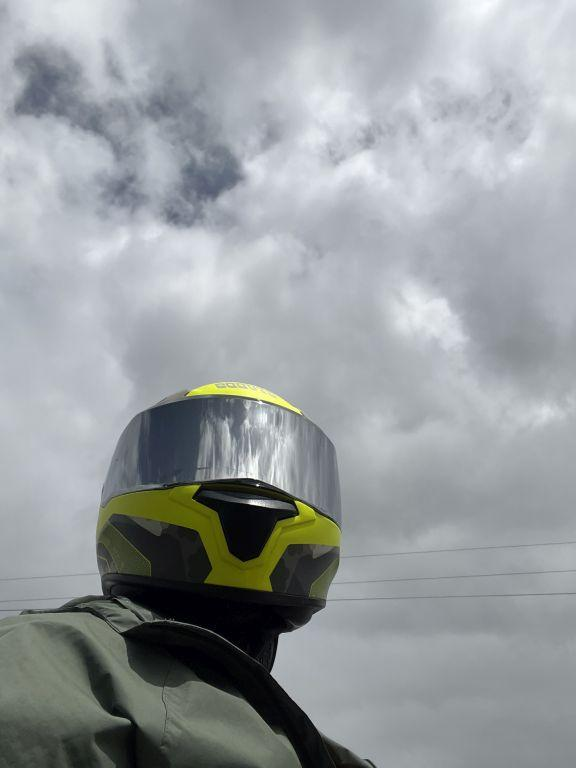helmet: (85, 374, 356, 639)
